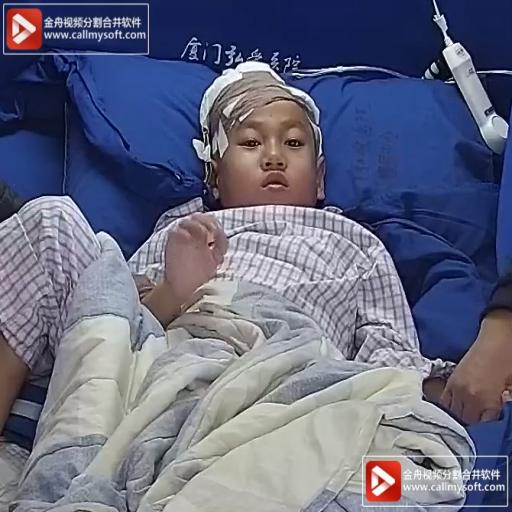Netural: (193, 67, 339, 221)
